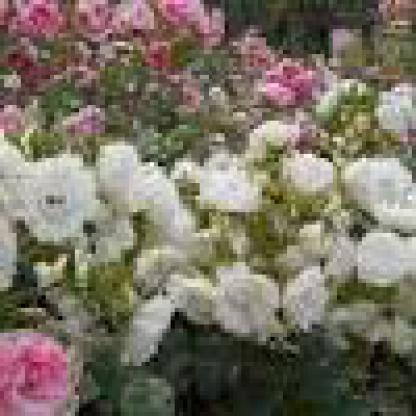Rose-Mawar: (1, 1, 409, 413)
